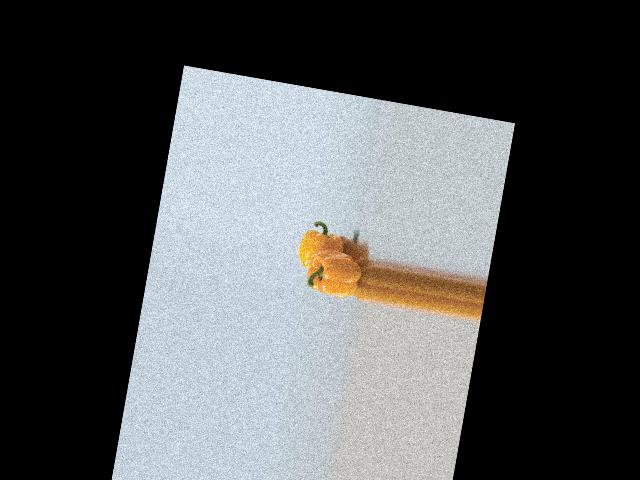bell_pepper: (295, 219, 355, 276)
